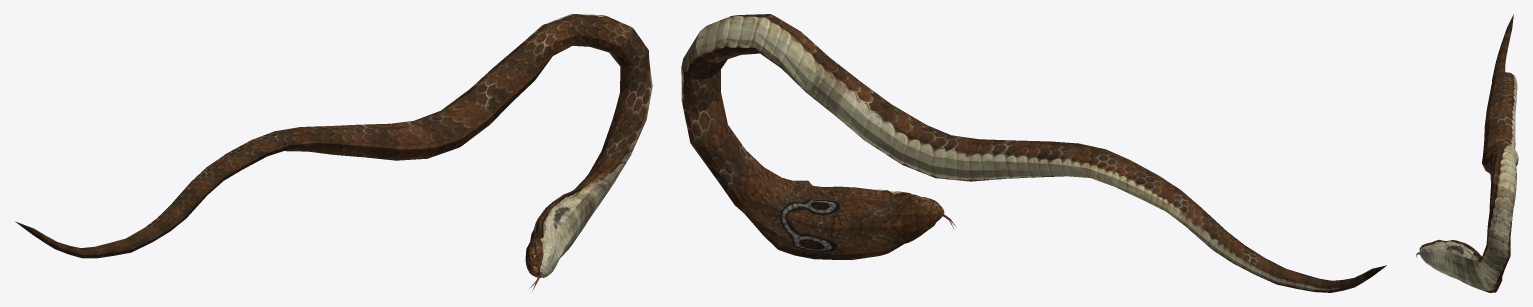
Rendered from sanke.obj.
3 views of the same model, side by side, from view 1: azimuth 30°, elevation 25°; view 2: azimuth 150°, elevation 25°; view 3: azimuth 270°, elevation 25° (orthographic). The views are drawn at different scales.
Parts seen in each view (by area): view 1: Object.1; view 2: Object.1; view 3: Object.1.
Part boxes in pixels (x1,y1,x2,y2): Object.1: (15,14,652,291); Object.1: (681,14,1386,292); Object.1: (1416,14,1518,292).
Size of the model in its own units: 112588 by 37412 by 22678.
1 material, 1 textured.
